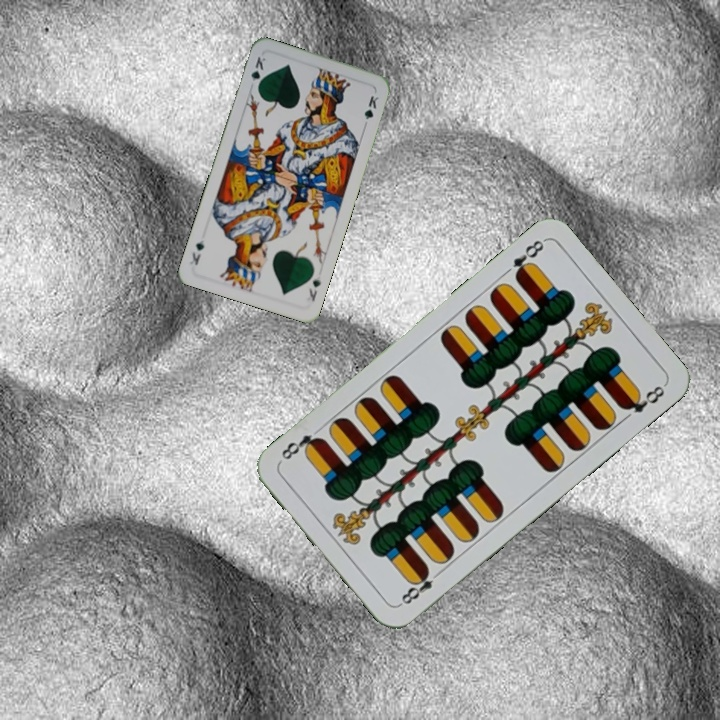E8: (395, 564, 445, 609), (508, 234, 547, 283)
GK: (247, 52, 268, 92), (305, 272, 323, 304)
